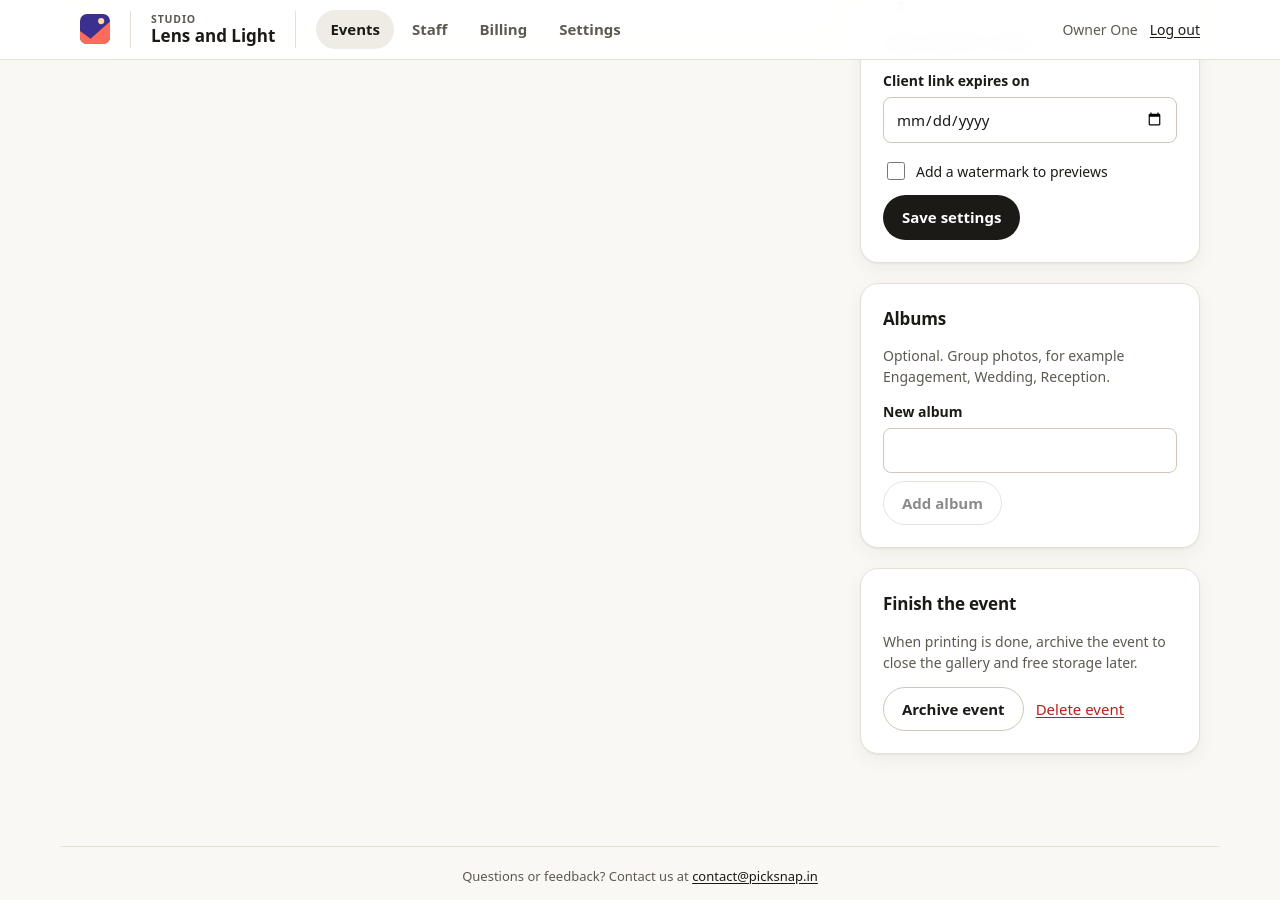
it: albums › adds an album, and the button waits for a name
(page scrolled)
Check: the heading "Albums" is shown, box [883,306,946,330]
Check: the button "Add album" is disabled, box [883,480,1002,525]
Type "Engagement" into the field labelled "New album" at (1030, 450), box [883,428,1177,472]
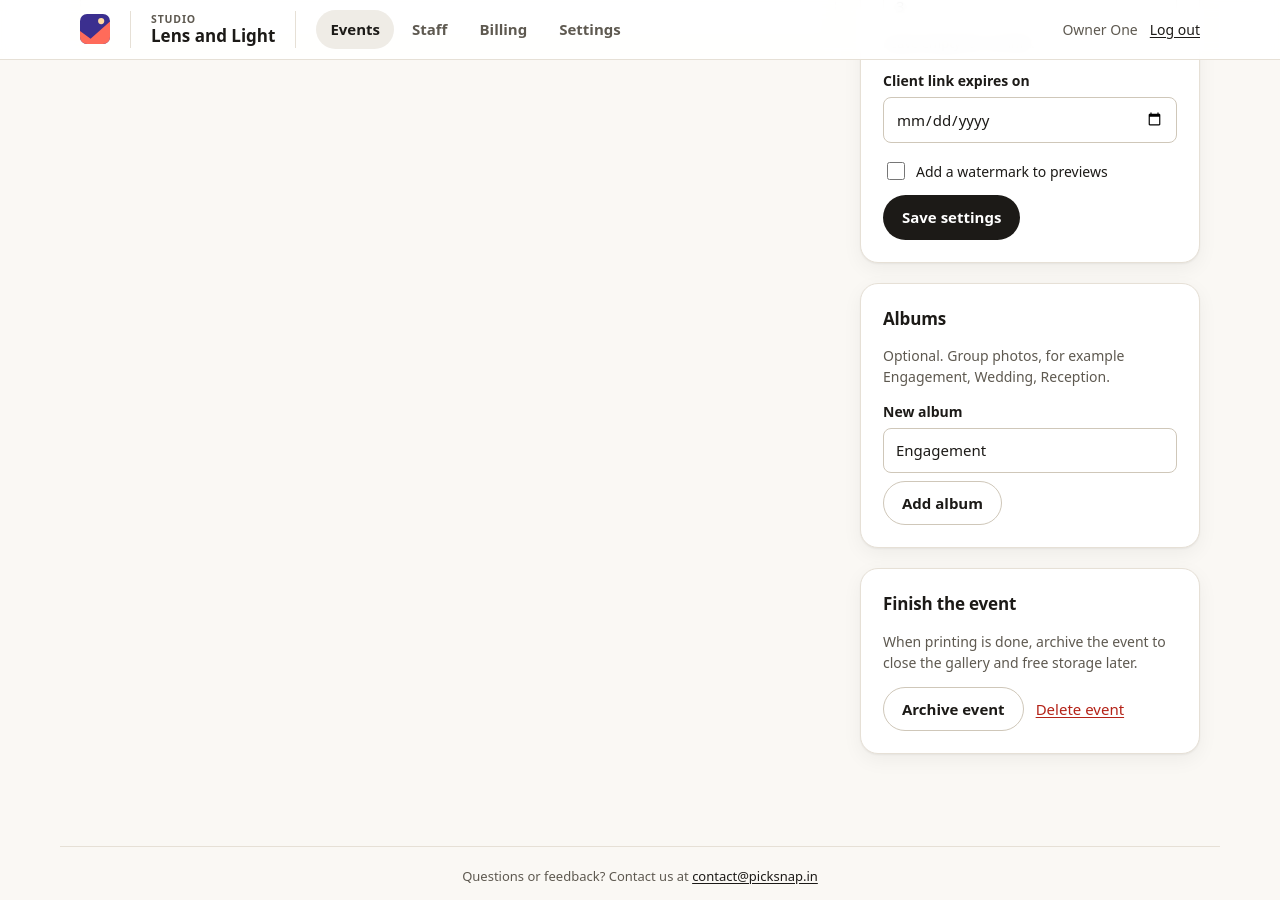
Click the button "Add album" at (942, 503), box [883,480,1002,525]
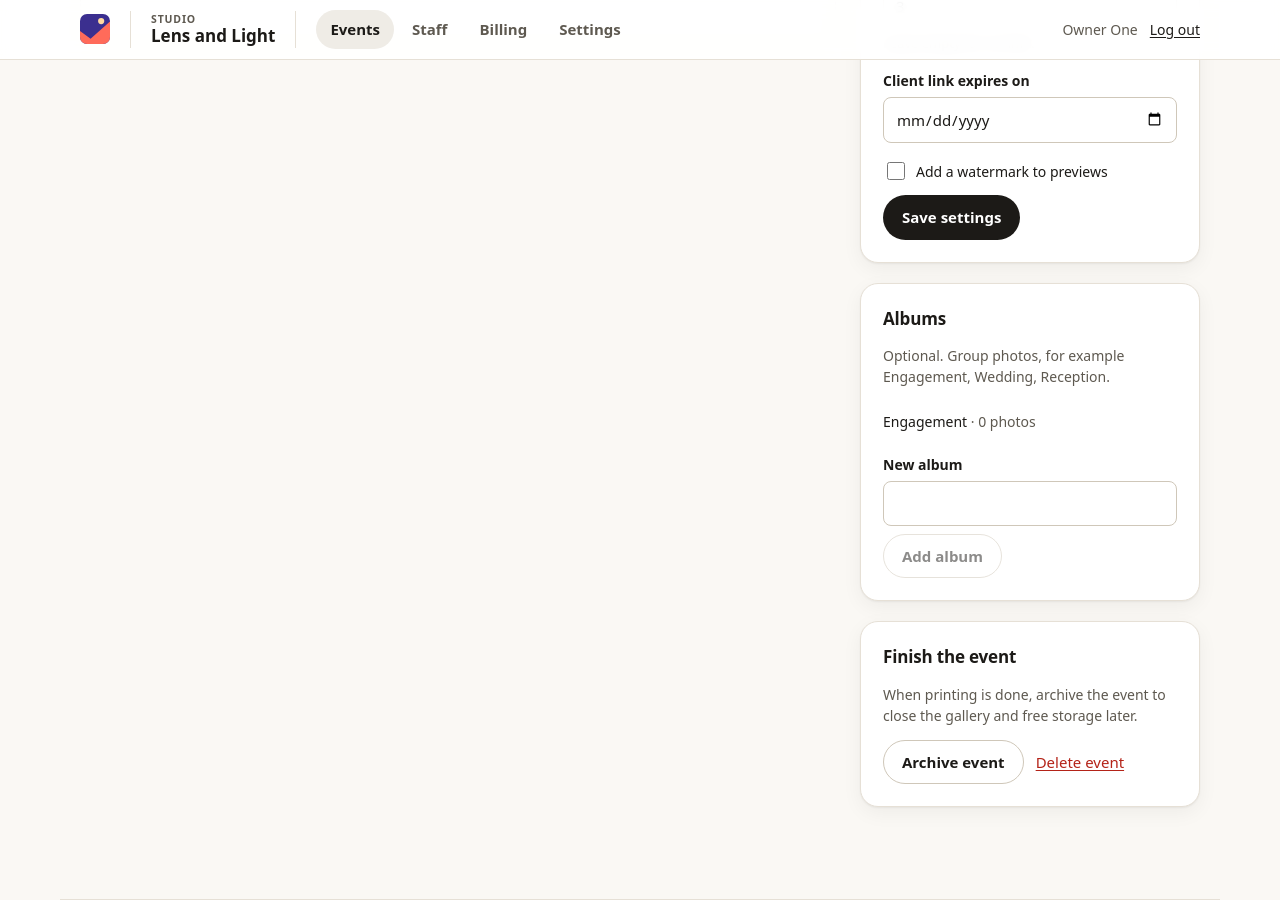
Check: the list item "Engagement" is shown, box [883,412,967,431]
Check: the field labelled "New album" is empty, box [883,481,1177,526]
